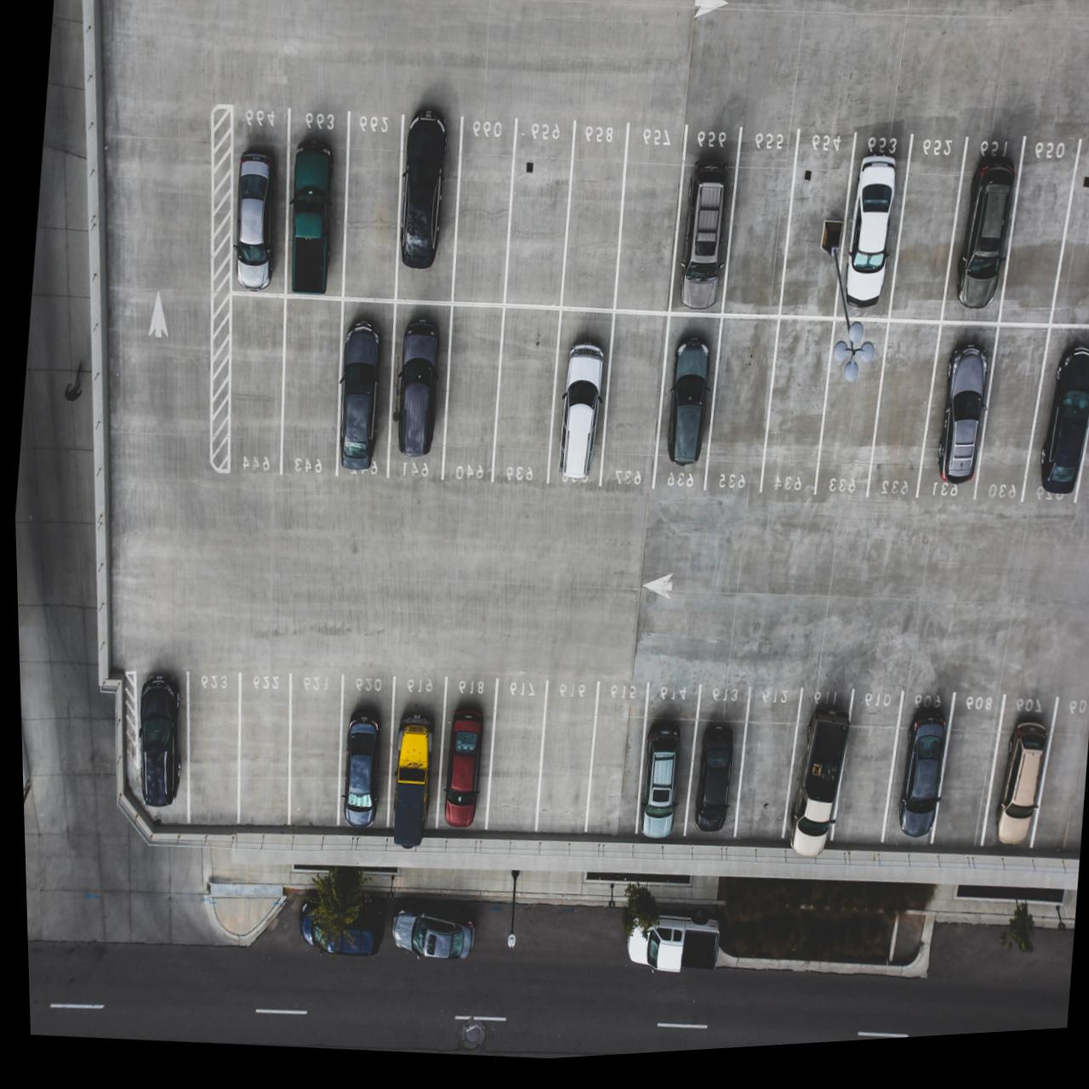cars: (939, 135, 1029, 318), (833, 135, 914, 317), (782, 126, 861, 312), (282, 110, 357, 299), (218, 118, 295, 297), (394, 121, 466, 304), (126, 657, 201, 832), (427, 666, 502, 839), (542, 311, 615, 486), (921, 313, 988, 502), (327, 303, 400, 473), (382, 316, 457, 481), (678, 132, 742, 318), (984, 686, 1058, 846), (659, 312, 723, 488), (381, 674, 449, 835), (779, 693, 848, 846), (331, 677, 398, 825), (1033, 329, 1089, 505), (684, 701, 751, 847), (890, 690, 952, 843), (638, 697, 695, 841)
empty: (329, 110, 414, 307), (446, 116, 525, 309), (969, 320, 1046, 510), (501, 120, 579, 306), (613, 128, 691, 314), (719, 130, 800, 309), (1000, 145, 1077, 324), (558, 126, 631, 314), (888, 133, 965, 311), (489, 306, 565, 486), (705, 311, 777, 496), (870, 311, 937, 503), (177, 662, 250, 837), (763, 318, 832, 501), (221, 301, 295, 471), (273, 311, 347, 474), (437, 311, 508, 478), (482, 669, 551, 837), (599, 314, 668, 482), (817, 324, 883, 498), (528, 683, 601, 835), (580, 686, 651, 838), (835, 684, 902, 840), (280, 678, 348, 824), (230, 678, 296, 821), (737, 683, 796, 836), (942, 690, 998, 842), (1039, 700, 1089, 847), (1057, 145, 1089, 329)
